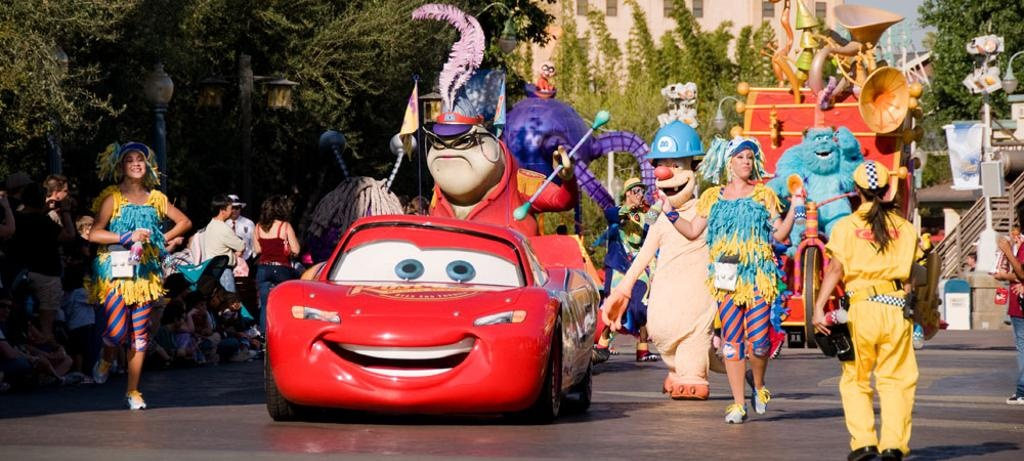human_face: (730, 145, 752, 177), (123, 148, 145, 178), (630, 186, 642, 204), (228, 202, 240, 218), (57, 182, 67, 201), (84, 222, 96, 236), (194, 301, 206, 315), (174, 313, 184, 327), (220, 204, 230, 216), (967, 254, 971, 264)
